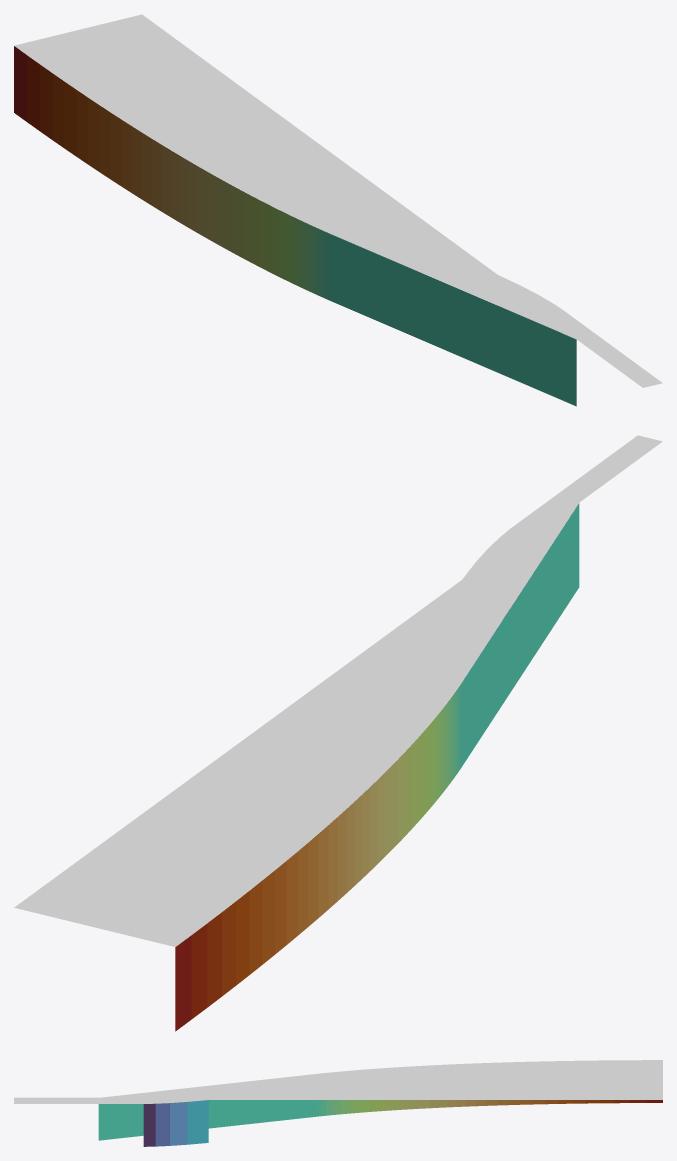
Rendered from scramjet_n38_m5.glb.
3 views of the same model, one above another, from view 1: azimuth 30°, elevation 25°; view 2: azimuth 150°, elevation 25°; view 3: azimuth 270°, elevation 25° (orthographic). The views are drawn at different scales.
Parts seen in each view (by area): view 1: Renderer Node; view 2: Renderer Node; view 3: Renderer Node.
Boxes of the visible parts, box(x1,y1,x2,y2) form: Renderer Node: box(14, 14, 662, 406); Renderer Node: box(14, 435, 662, 1031); Renderer Node: box(14, 1060, 662, 1146).
Size of the model in its own units: 1.1 by 0.5006 by 6.87.
